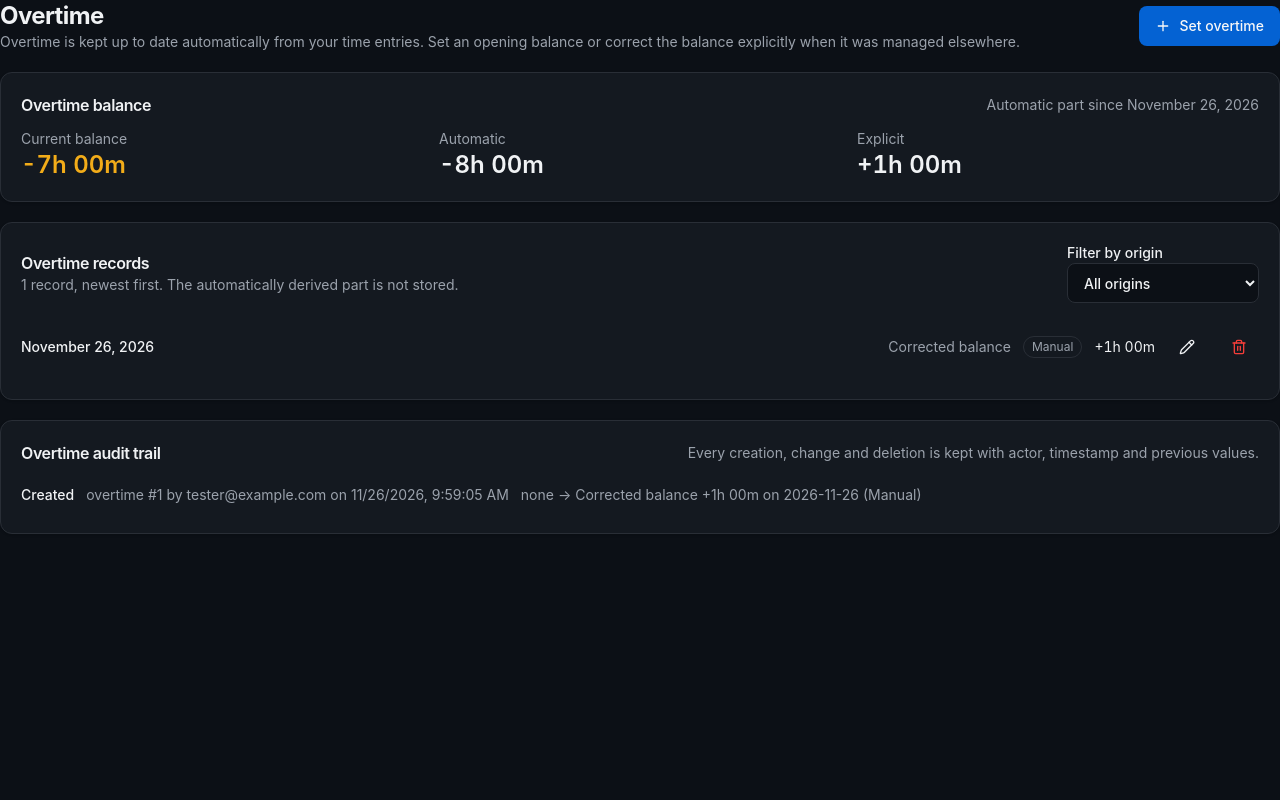
Test: OvertimePage › deletes a record after confirmation
Click the button named "Delete overtime on 2026-11-26" at (1239, 347), box [1219,327,1259,367]
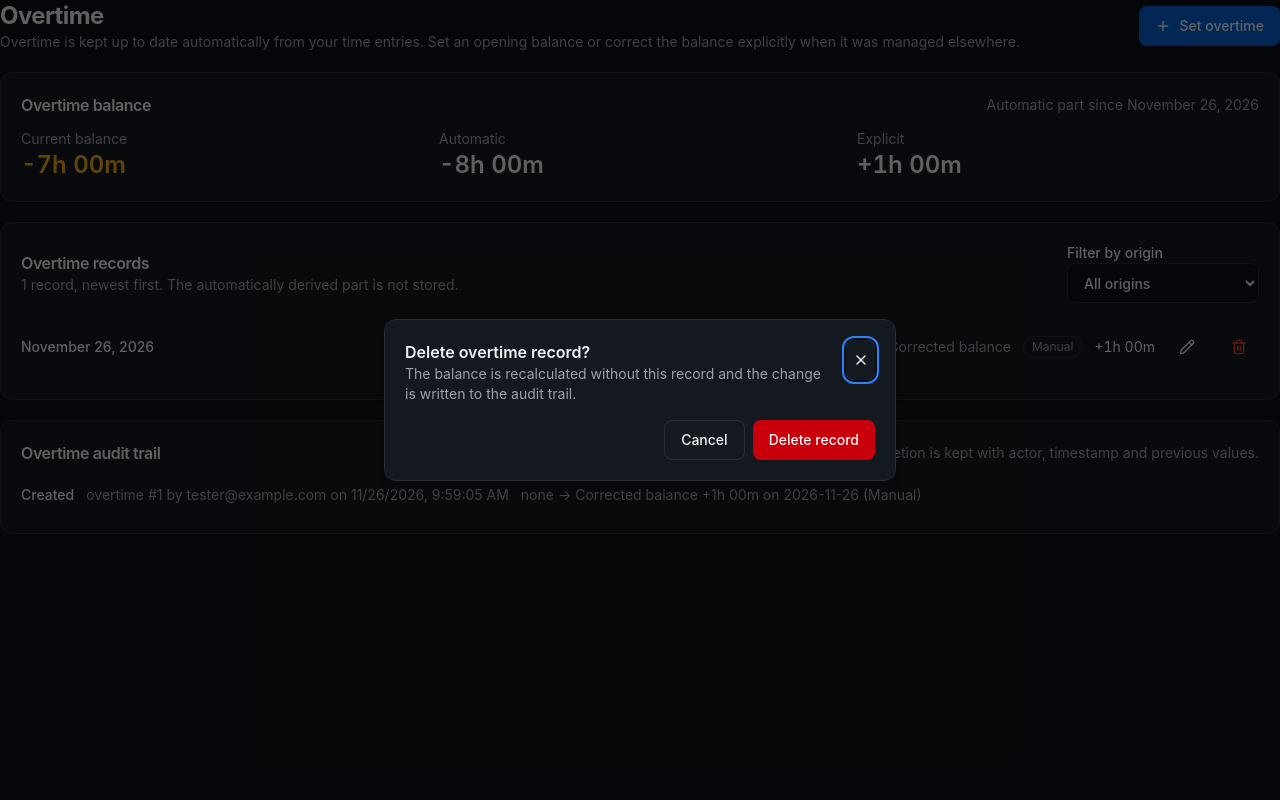
Click the button "Delete record" at (814, 440), box [753,420,875,460]
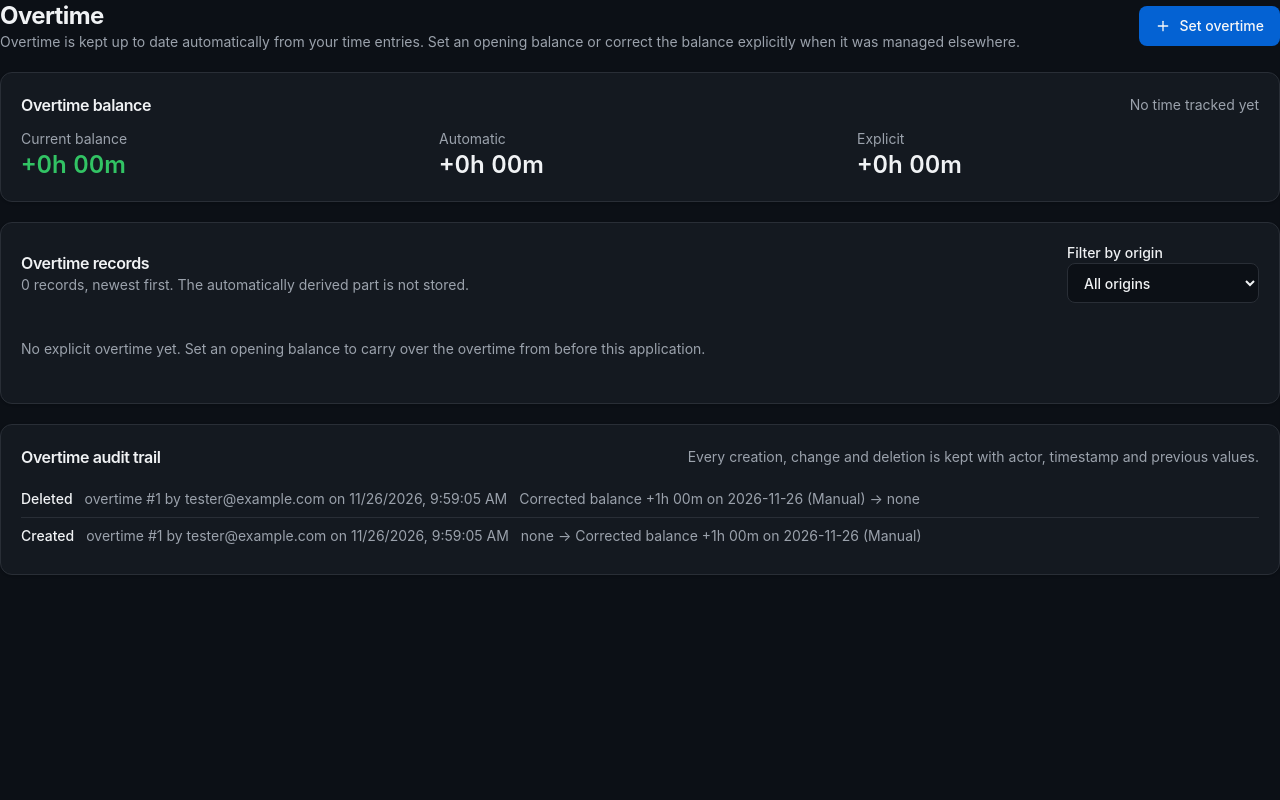
Result: the text with test id "overtime-explicit" reads "+0h 00m" at [857,150,962,179]
